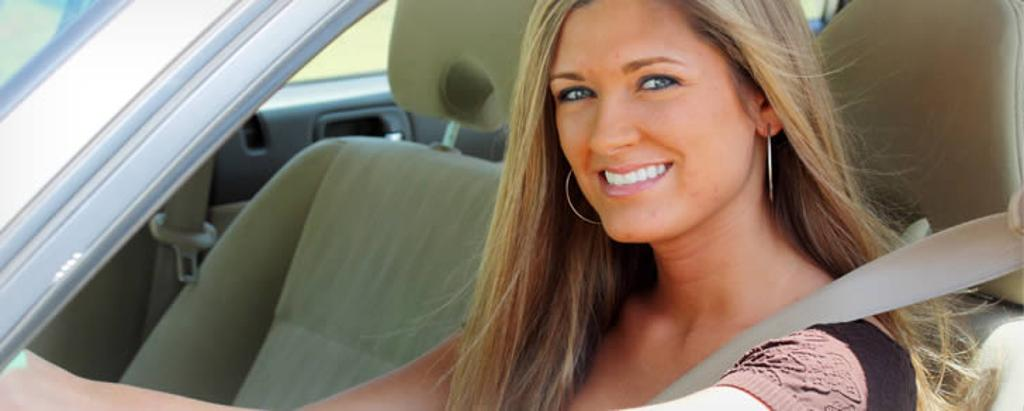face: (552, 0, 754, 240)
